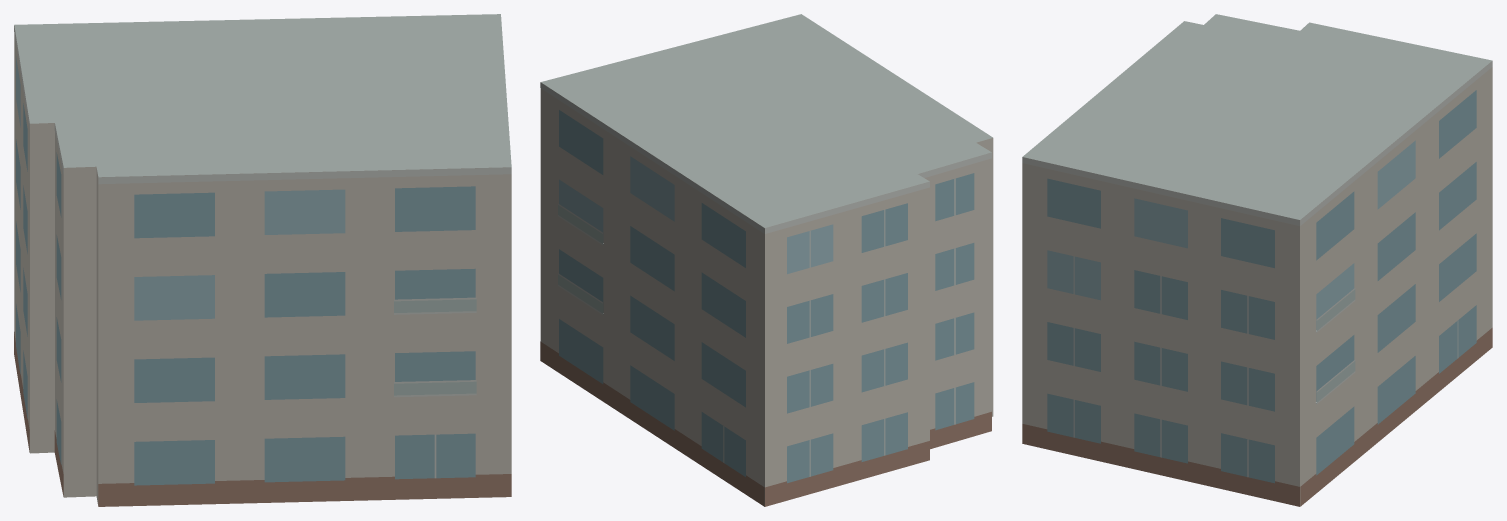
The model's file is survey-upis-32950965.glb.
3 renders of one model, left to right at view 1: azimuth 30°, elevation 25°; view 2: azimuth 150°, elevation 25°; view 3: azimuth 270°, elevation 25°, orthographic. The views are drawn at different scales.
Parts seen in each view (by area): view 1: survey-upis-32950965.tmp; view 2: survey-upis-32950965.tmp; view 3: survey-upis-32950965.tmp.
Boxes of the visible parts, box(x1,y1,x2,y2) form: survey-upis-32950965.tmp: box(14, 14, 511, 506); survey-upis-32950965.tmp: box(540, 14, 993, 506); survey-upis-32950965.tmp: box(1022, 14, 1492, 506).
Bounding box in the file's own units: 17.61 × 11.42 × 16.99.
